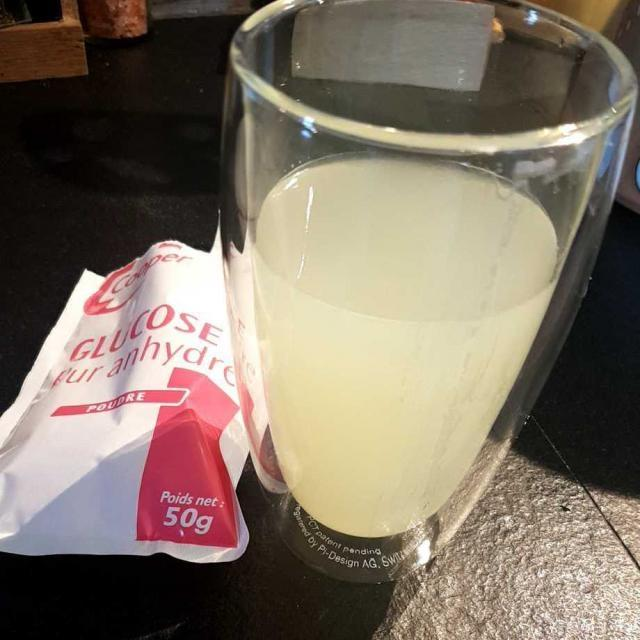drink: (245, 128, 585, 536)
